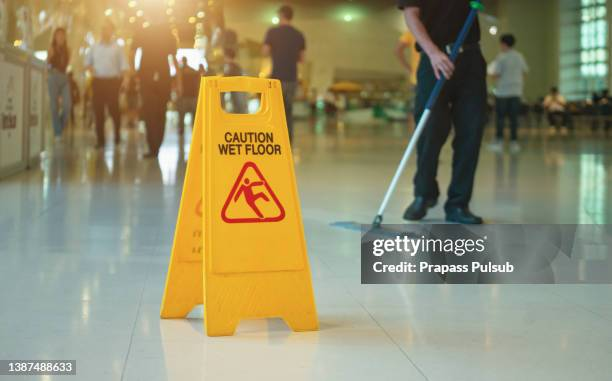wet caution sign: (153, 58, 324, 340)
